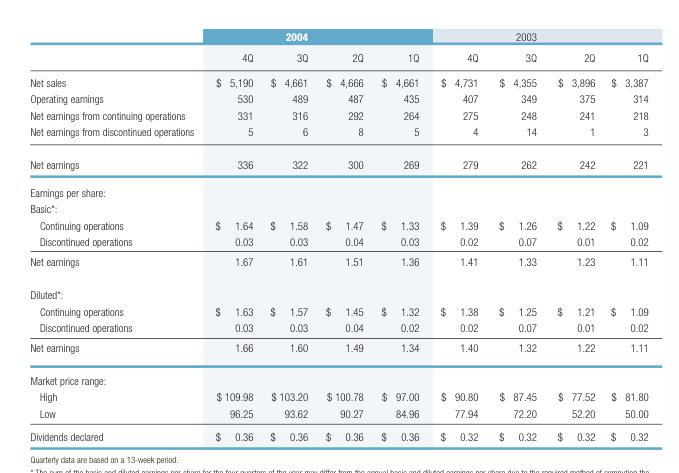table: (29, 29, 647, 441)
table column: (29, 29, 203, 441), (487, 29, 546, 441), (371, 29, 429, 441), (429, 29, 487, 441), (203, 29, 260, 441), (260, 29, 316, 441), (546, 29, 602, 441), (316, 29, 371, 441), (602, 29, 647, 441)
table column header: (29, 29, 647, 69)
table projected row header: (29, 277, 647, 302), (29, 363, 647, 388), (29, 178, 647, 200), (29, 200, 647, 216)
table row: (29, 147, 647, 178), (29, 251, 647, 277), (29, 337, 647, 363), (29, 277, 647, 302), (29, 363, 647, 388), (29, 123, 647, 147), (29, 46, 647, 69), (29, 178, 647, 200), (29, 69, 647, 90), (29, 404, 647, 424), (29, 232, 647, 251), (29, 318, 647, 337), (29, 29, 647, 46), (29, 106, 647, 123), (29, 424, 647, 441), (29, 90, 647, 106), (29, 200, 647, 216), (29, 216, 647, 232), (29, 302, 647, 318), (29, 388, 647, 404)
table spanning cell: (203, 29, 429, 46), (429, 29, 647, 46)
